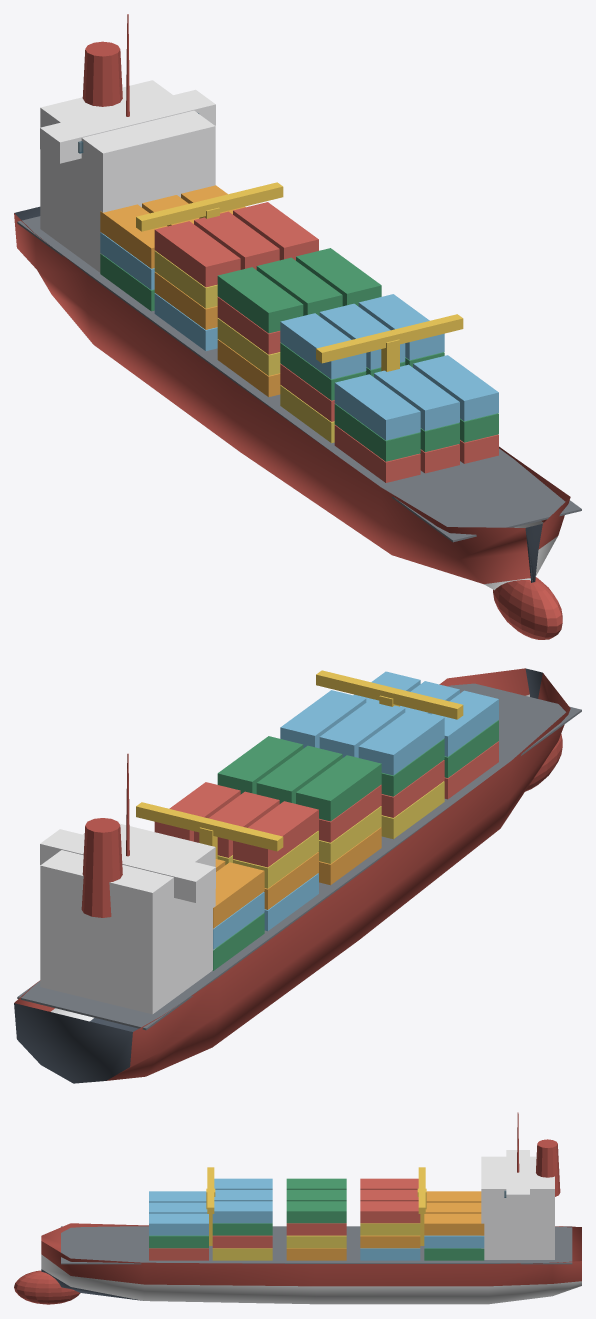
The model's file is container_ship.glb.
3 views of the same model, one above another, from view 1: azimuth 30°, elevation 25°; view 2: azimuth 150°, elevation 25°; view 3: azimuth 270°, elevation 25° (orthographic). The views are drawn at different scales.
Visible parts, largest first — view 1: Container_Ship_Hull, Aft_Superstructure, Containers_Brand_1, Containers_Brand_0, Containers_Brand_4, Cargo_Deck, Containers_Brand_2, Deck_Cranes, Containers_Brand_3, Bulbous_Bow, Funnel_Mast; view 2: Container_Ship_Hull, Aft_Superstructure, Containers_Brand_1, Containers_Brand_0, Containers_Brand_4, Cargo_Deck, Deck_Cranes, Containers_Brand_2, Containers_Brand_3, Funnel_Mast, Bulbous_Bow; view 3: Container_Ship_Hull, Aft_Superstructure, Containers_Brand_1, Cargo_Deck, Containers_Brand_0, Containers_Brand_4, Containers_Brand_2, Containers_Brand_3, Bulbous_Bow, Deck_Cranes, Funnel_Mast.
Part boxes in pixels (<box>): Container_Ship_Hull: <box>14,206,570,590</box>; Aft_Superstructure: <box>40,80,215,272</box>; Containers_Brand_1: <box>100,232,498,440</box>; Containers_Brand_0: <box>100,248,498,461</box>; Containers_Brand_4: <box>154,202,498,482</box>; Cargo_Deck: <box>17,216,581,542</box>; Containers_Brand_2: <box>100,185,280,397</box>; Deck_Cranes: <box>136,182,463,371</box>; Containers_Brand_3: <box>154,250,334,443</box>; Bulbous_Bow: <box>493,577,562,639</box>; Funnel_Mast: <box>82,14,129,116</box>; Container_Ship_Hull: <box>14,668,570,1083</box>; Aft_Superstructure: <box>40,823,215,1014</box>; Containers_Brand_1: <box>213,671,498,949</box>; Containers_Brand_0: <box>212,720,498,970</box>; Containers_Brand_4: <box>154,741,498,867</box>; Cargo_Deck: <box>17,683,581,1030</box>; Deck_Cranes: <box>136,670,463,859</box>; Containers_Brand_2: <box>213,827,381,928</box>; Containers_Brand_3: <box>217,781,444,888</box>; Funnel_Mast: <box>81,753,129,917</box>; Bulbous_Bow: <box>525,734,562,791</box>; Container_Ship_Hull: <box>41,1223,581,1304</box>; Aft_Superstructure: <box>481,1150,554,1259</box>; Containers_Brand_1: <box>149,1178,484,1260</box>; Cargo_Deck: <box>61,1226,572,1264</box>; Containers_Brand_0: <box>149,1178,484,1260</box>; Containers_Brand_4: <box>149,1178,420,1260</box>; Containers_Brand_2: <box>286,1191,484,1260</box>; Containers_Brand_3: <box>212,1223,420,1260</box>; Bulbous_Bow: <box>14,1270,80,1304</box>; Deck_Cranes: <box>206,1167,426,1245</box>; Funnel_Mast: <box>517,1112,560,1196</box>.
Bounding box in the file's own units: 21.5 × 42.88 × 116.
